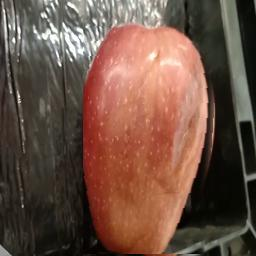Apple Semirotten: (84, 18, 221, 254)
